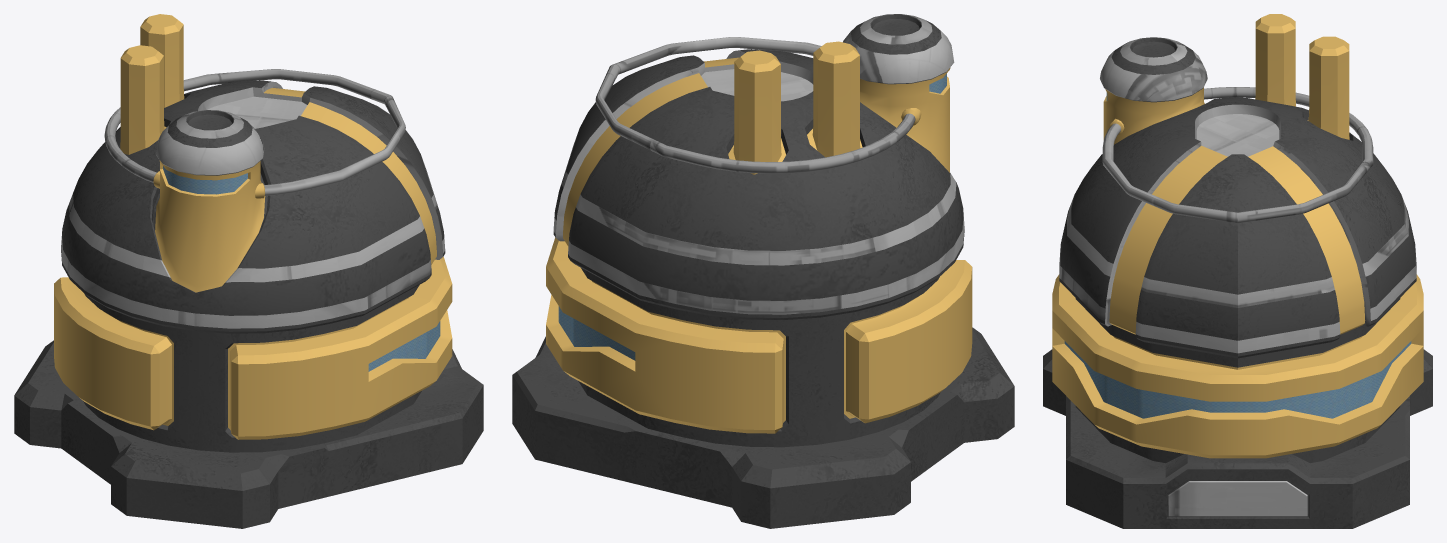
The model's file is NB_observatory_Building_3.fbx.
3 views of the same model, side by side, from view 1: azimuth 30°, elevation 25°; view 2: azimuth 150°, elevation 25°; view 3: azimuth 270°, elevation 25° (orthographic). The views are drawn at different scales.
Parts seen in each view (by area): view 1: NB_observatory_Building_3; view 2: NB_observatory_Building_3; view 3: NB_observatory_Building_3.
Part boxes in pixels (x1,y1,x2,y2): NB_observatory_Building_3: (14,14,483,528); NB_observatory_Building_3: (512,14,1014,528); NB_observatory_Building_3: (1043,14,1432,528).
Bounding box in the file's own units: 380 × 389 × 360.
